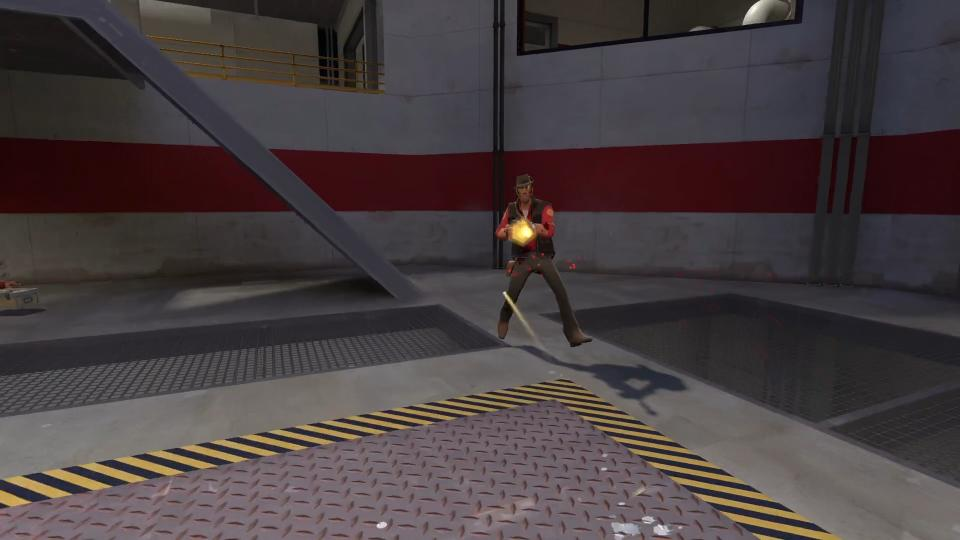Enemy: (495, 175, 592, 349)
